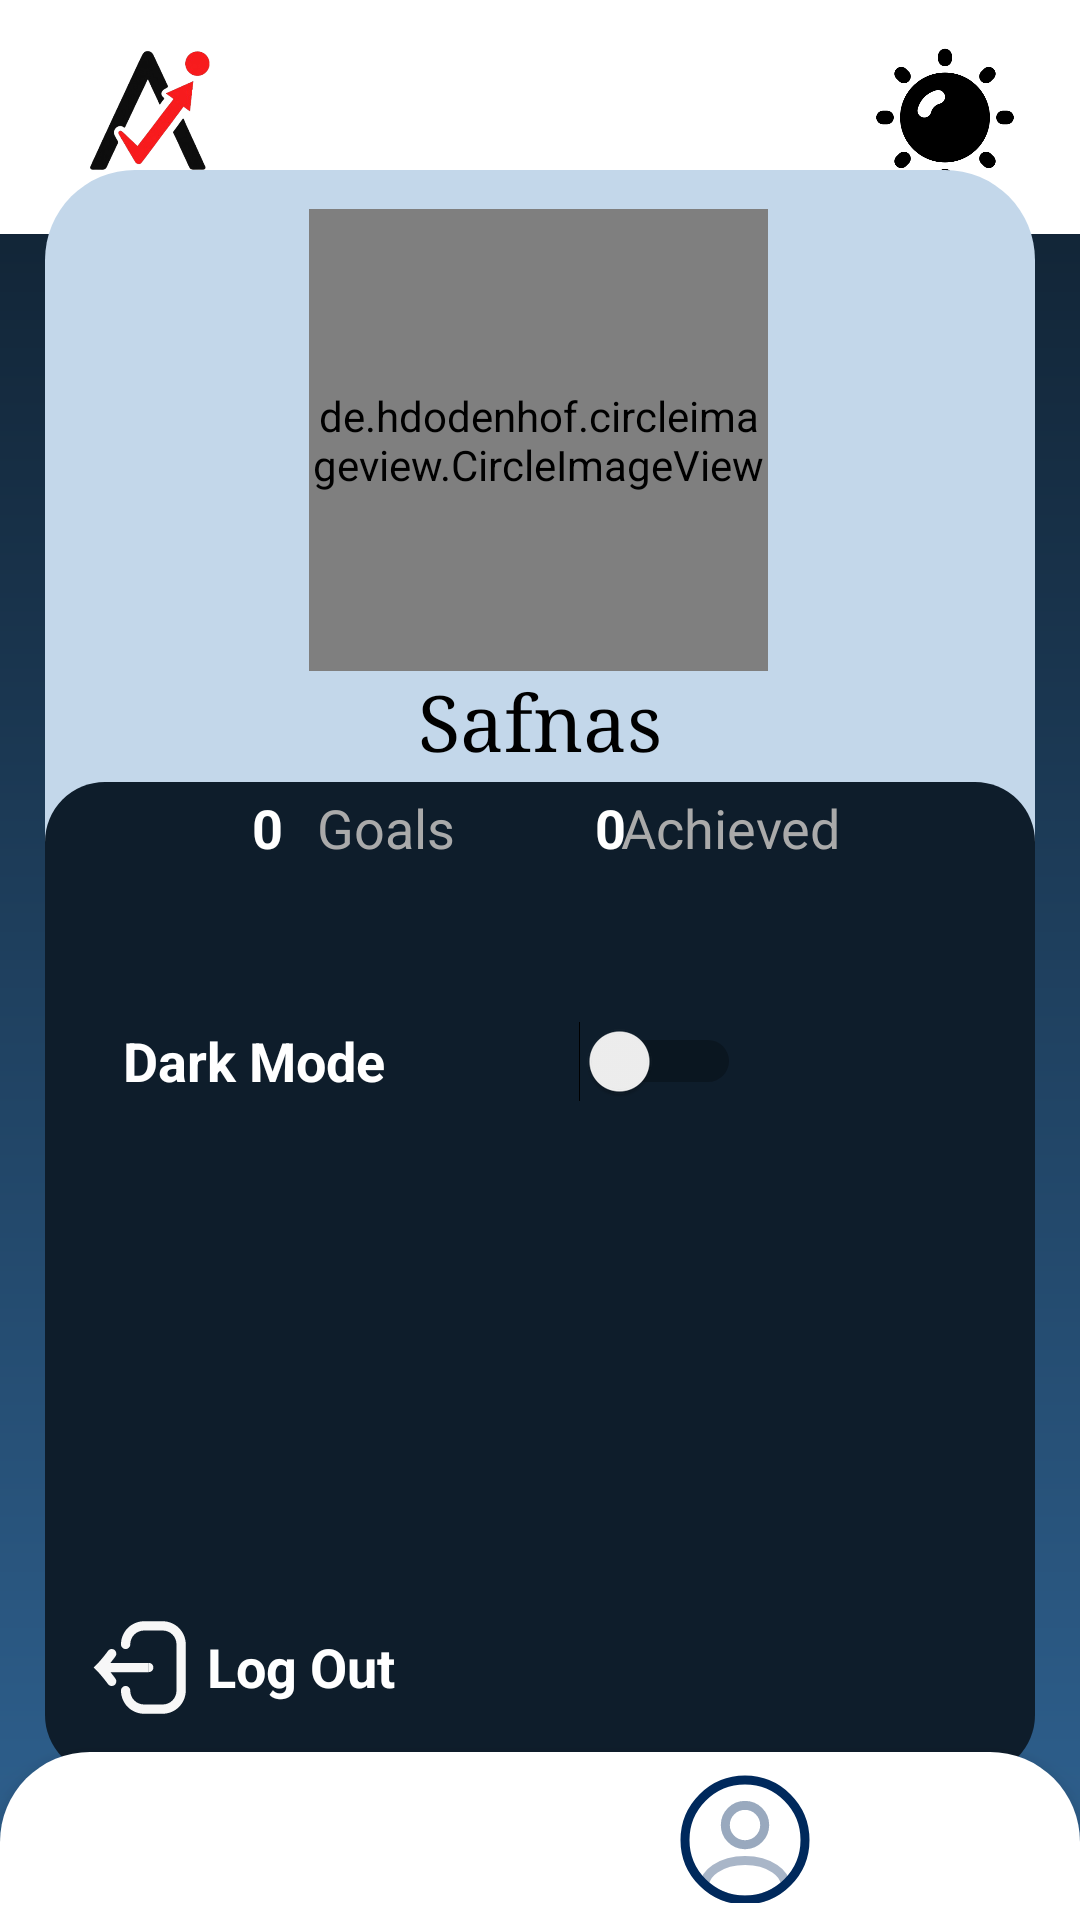

Where to tap for icons on this 1080px×1920px app screen, as (x,y):
profile: (745,1839)
summer: (945,108)
